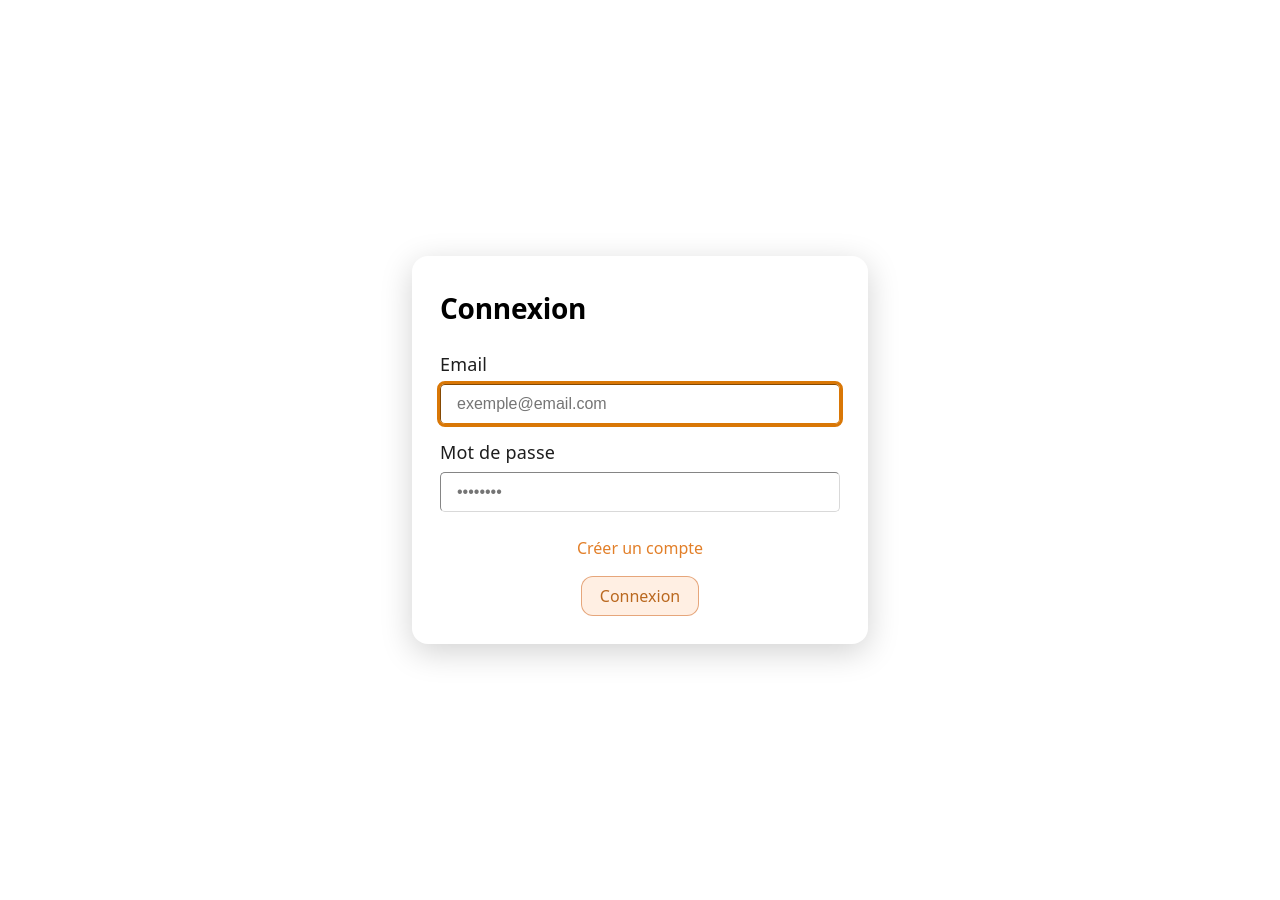
it: AuthModal › switches back to the login form when "J'ai déjà un compte" is clicked
Click the button "Créer un compte".
click(640, 548)  # box [558,528,722,568]
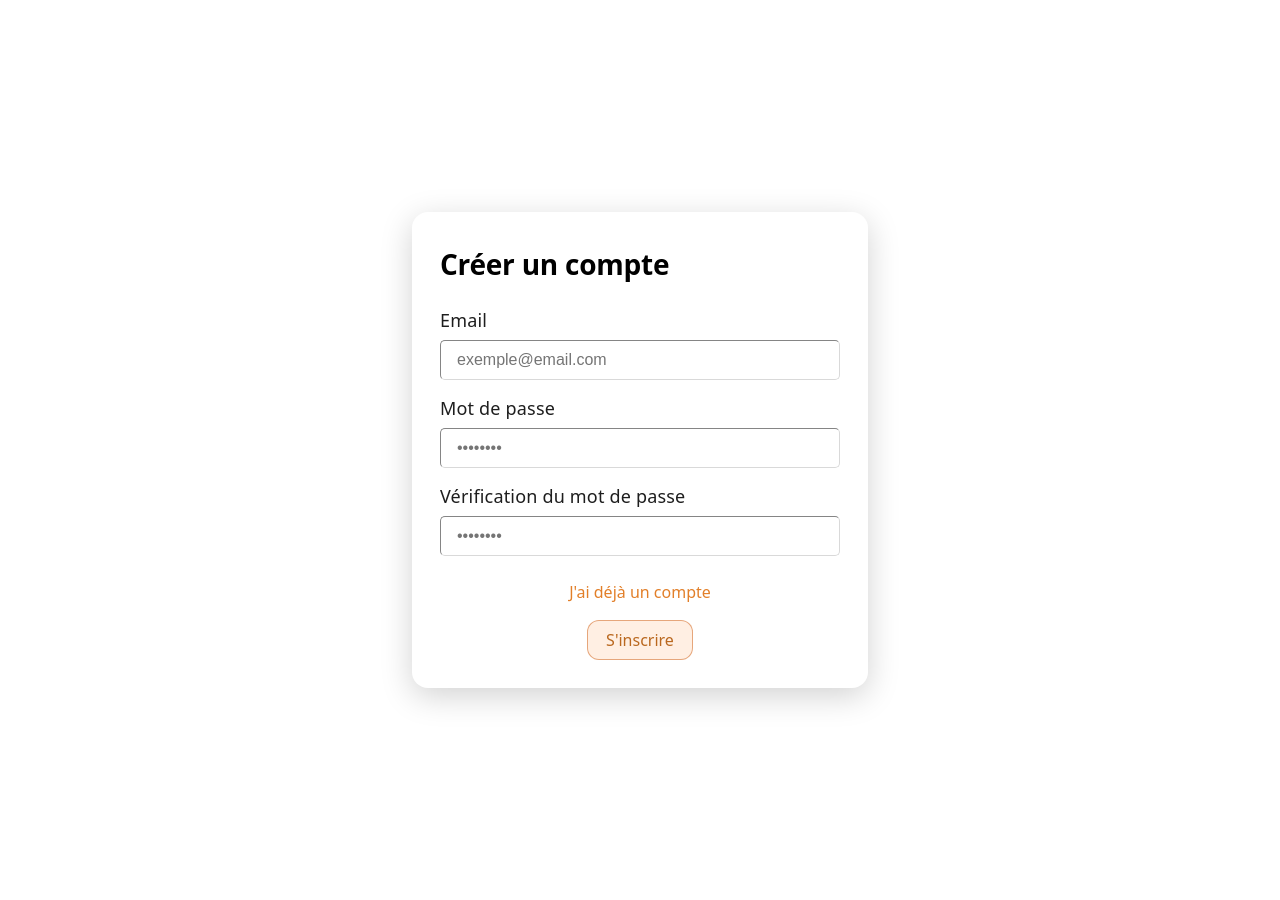
Click the button "J'ai déjà un compte".
click(640, 592)  # box [550,572,730,612]
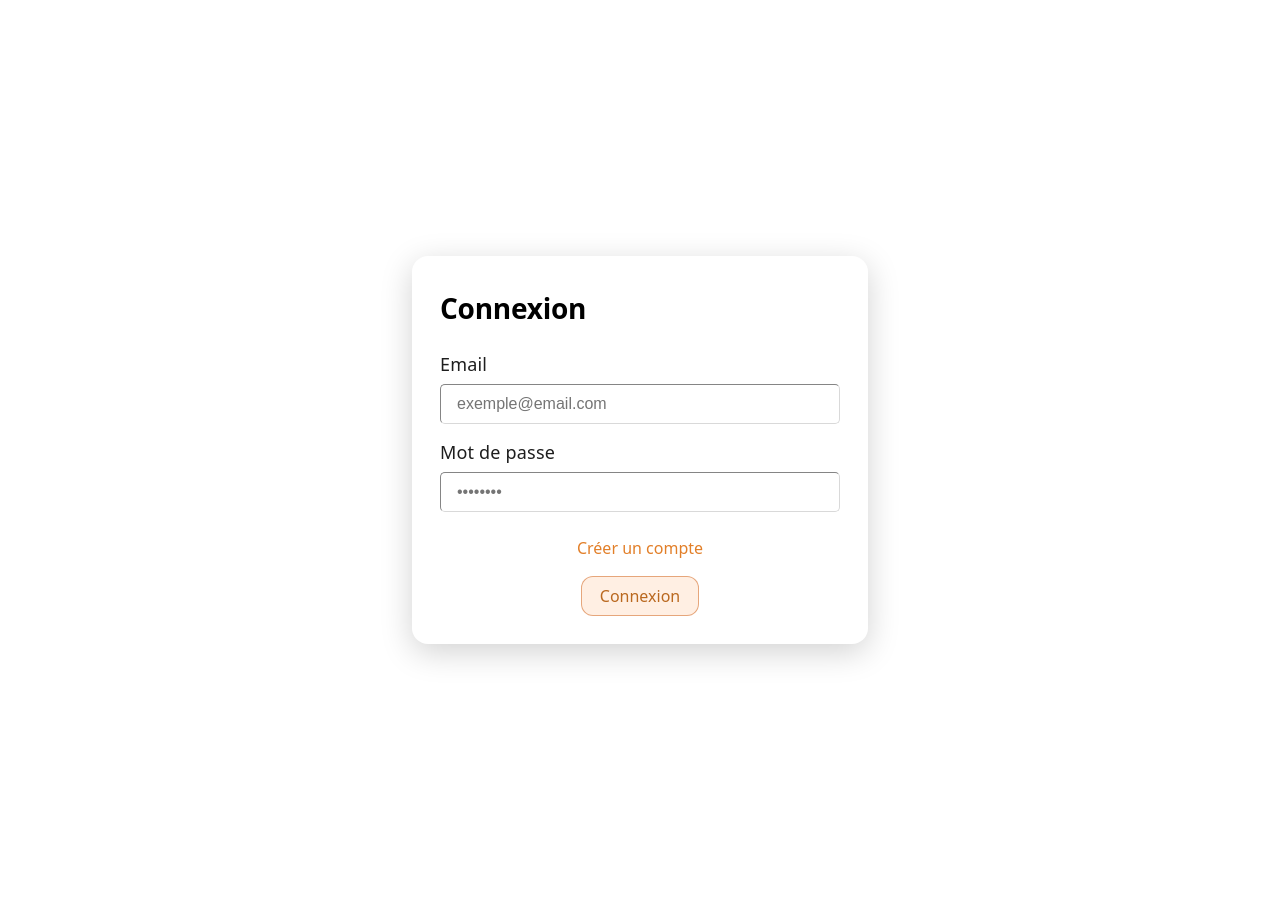
Result: the heading "Connexion" is shown at [440,289,586,327]
